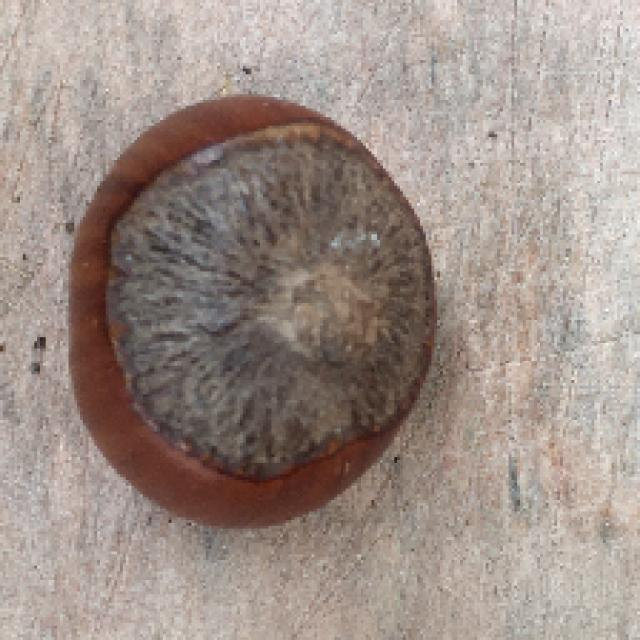DamagedHazelnut: (71, 96, 439, 534)
